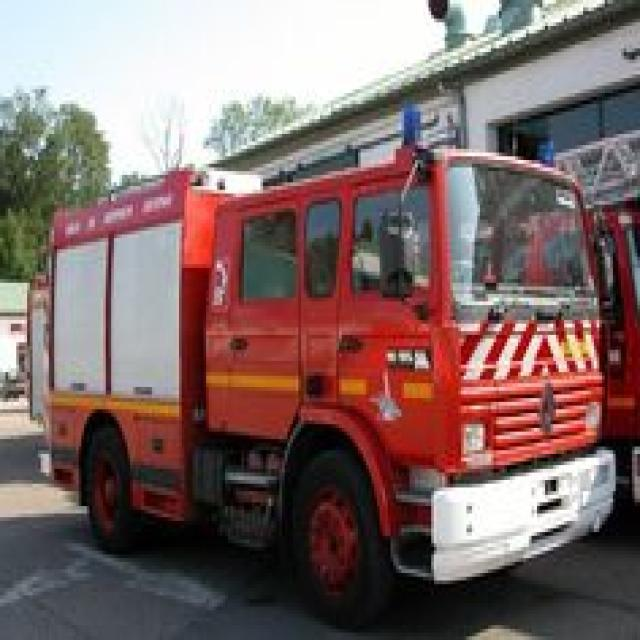emergency: (45, 152, 605, 608)
